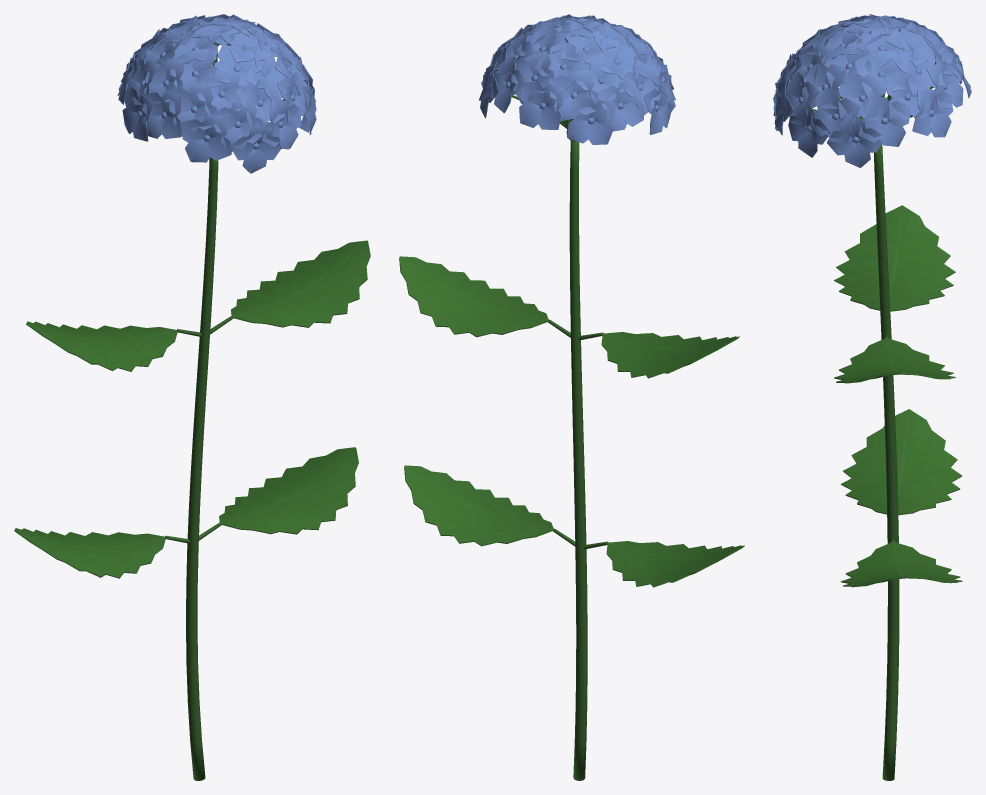
The model's file is ortensia.glb.
The picture shows the model from 3 angles, left to right: view 1: azimuth 30°, elevation 25°; view 2: azimuth 150°, elevation 25°; view 3: azimuth 270°, elevation 25°; orthographic projection.
Visible parts, largest first — view 1: Hydrangea opposite broad leaf 1 1, Hydrangea opposite broad leaf 0 1, Cut stem, Hydrangea opposite broad leaf 0 -1, Hydrangea opposite broad leaf 1 -1; view 2: Cut stem, Hydrangea opposite broad leaf 0 1, Hydrangea opposite broad leaf 1 1, Hydrangea opposite broad leaf 0 -1, Hydrangea opposite broad leaf 1 -1; view 3: Hydrangea opposite broad leaf 1 -1, Hydrangea opposite broad leaf 0 -1, Cut stem, Hydrangea opposite broad leaf 1 1, Hydrangea opposite broad leaf 0 1, Hydrangea Floret 9 enlarged sepal 2, Hydrangea Floret 1 enlarged sepal 1, Hydrangea Floret 22 enlarged sepal 3, Hydrangea Floret 17 enlarged sepal 1, Hydrangea Floret 4 enlarged sepal 4, Hydrangea Floret 30 enlarged sepal 3, Hydrangea Floret 30 enlarged sepal 4 (+10 smaller).
Part boxes in pixels (x1,y1,x2,y2): Hydrangea opposite broad leaf 1 1: (231,240,370,327); Hydrangea opposite broad leaf 0 1: (219,447,358,534); Cut stem: (186,157,218,780); Hydrangea opposite broad leaf 0 -1: (14,528,165,578); Hydrangea opposite broad leaf 1 -1: (26,321,177,371); Cut stem: (569,141,587,780); Hydrangea opposite broad leaf 0 1: (404,465,553,546); Hydrangea opposite broad leaf 1 1: (399,256,548,337); Hydrangea opposite broad leaf 0 -1: (606,541,744,587); Hydrangea opposite broad leaf 1 -1: (601,332,739,378); Hydrangea opposite broad leaf 1 -1: (834,205,955,311); Hydrangea opposite broad leaf 0 -1: (841,409,962,515); Cut stem: (874,143,899,780); Hydrangea opposite broad leaf 1 1: (834,338,955,383); Hydrangea opposite broad leaf 0 1: (841,541,962,587); Hydrangea Floret 9 enlarged sepal 2: (879,122,905,146); Hydrangea Floret 1 enlarged sepal 1: (844,142,870,167); Hydrangea Floret 22 enlarged sepal 3: (838,74,863,98); Hydrangea Floret 17 enlarged sepal 1: (886,73,908,99); Hydrangea Floret 4 enlarged sepal 4: (930,113,951,137); Hydrangea Floret 30 enlarged sepal 3: (874,50,901,73); Hydrangea Floret 30 enlarged sepal 4: (854,54,880,77).
Bounding box in the file's own units: 0.2566 × 0.5292 × 0.1257.
3 materials, 3 textured.
